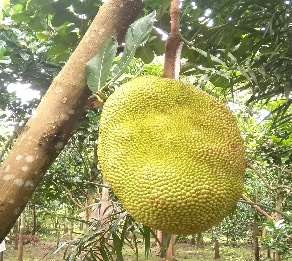Mit: (99, 76, 247, 236)
